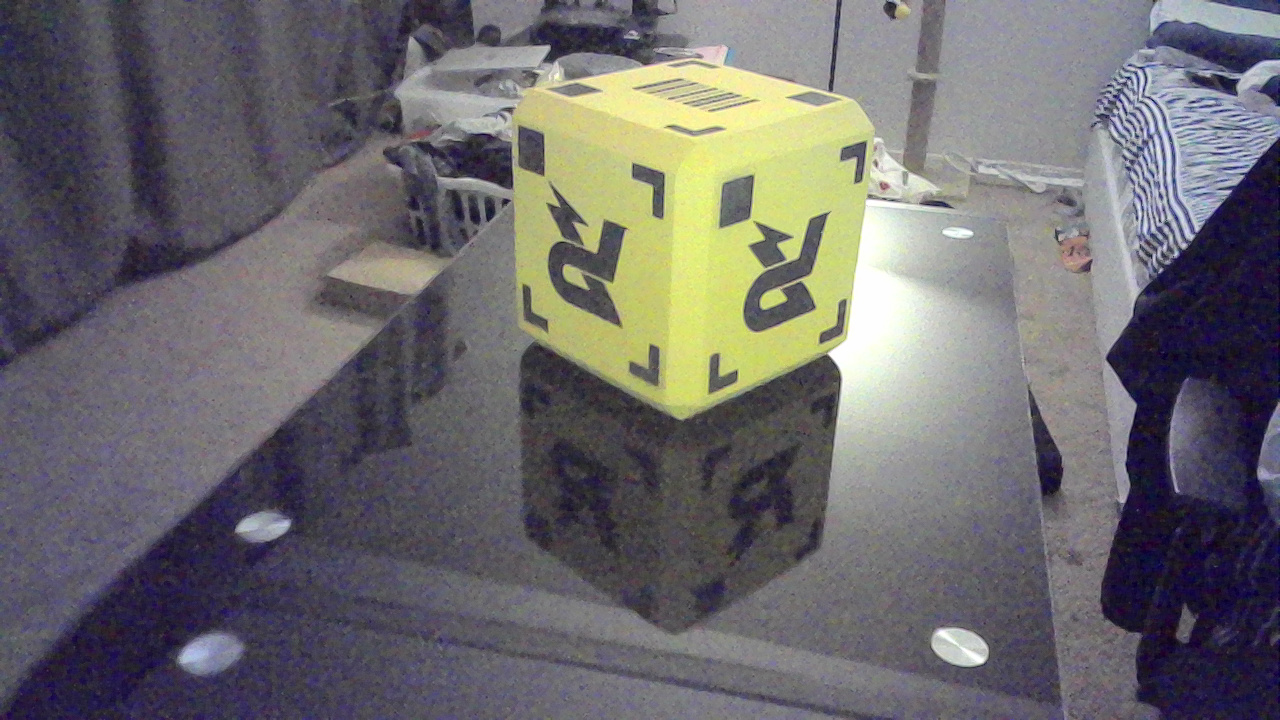Barcode: (631, 77, 766, 120)
R: (549, 195, 644, 321), (743, 223, 842, 330)
